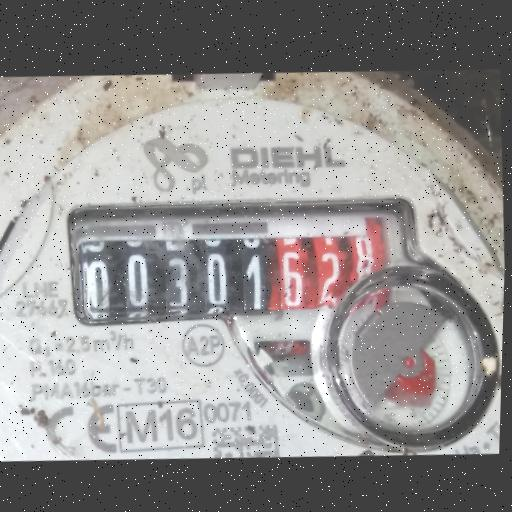0: (118, 239, 160, 319), (81, 240, 121, 321), (198, 238, 239, 316)
1: (236, 237, 278, 314)
2: (310, 233, 351, 311)
3: (158, 238, 199, 317)
6: (273, 234, 316, 311)
8: (343, 216, 387, 288)
border_water_meter_number: (64, 181, 428, 340)
